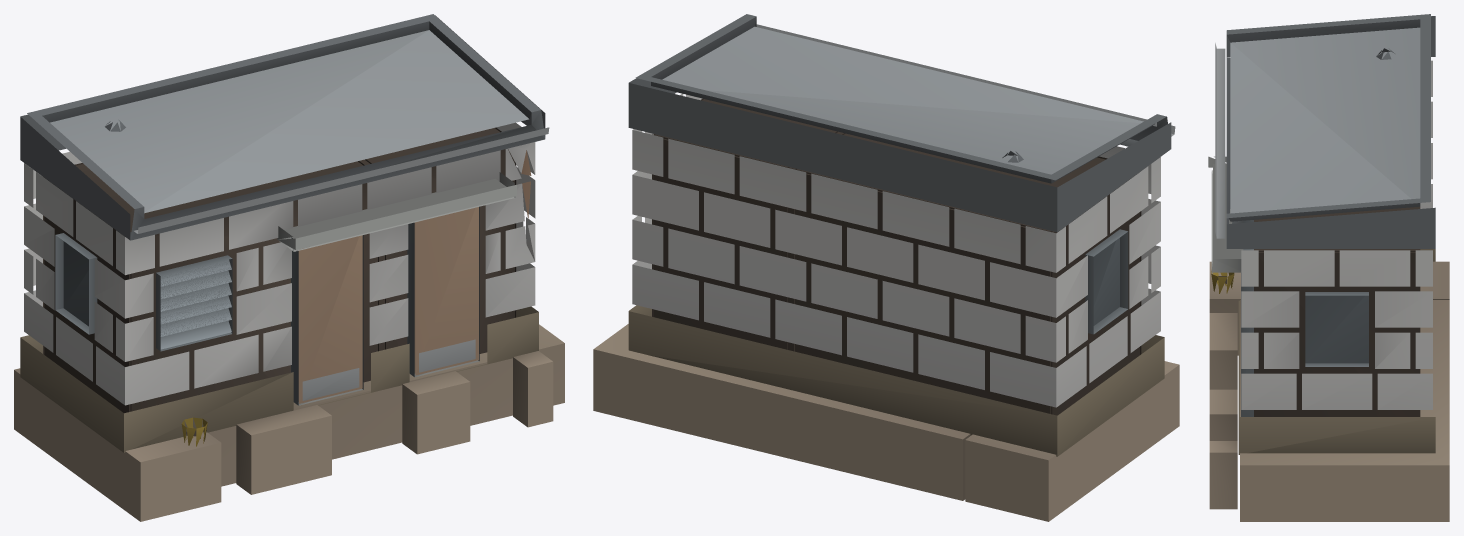
Rendered from toilets.lod.glb.
The picture shows the model from 3 angles, left to right: view 1: azimuth 30°, elevation 25°; view 2: azimuth 150°, elevation 25°; view 3: azimuth 270°, elevation 25°; orthographic projection. The views are drawn at different scales.
Parts seen in each view (by area): view 1: toilets; view 2: toilets; view 3: toilets.
Boxes of the visible parts, <box> form: toilets: <box>14,14,564,521</box>; toilets: <box>593,14,1179,521</box>; toilets: <box>1208,14,1449,521</box>.
Size of the model in its own units: 7.98 by 5.57 by 3.98.
